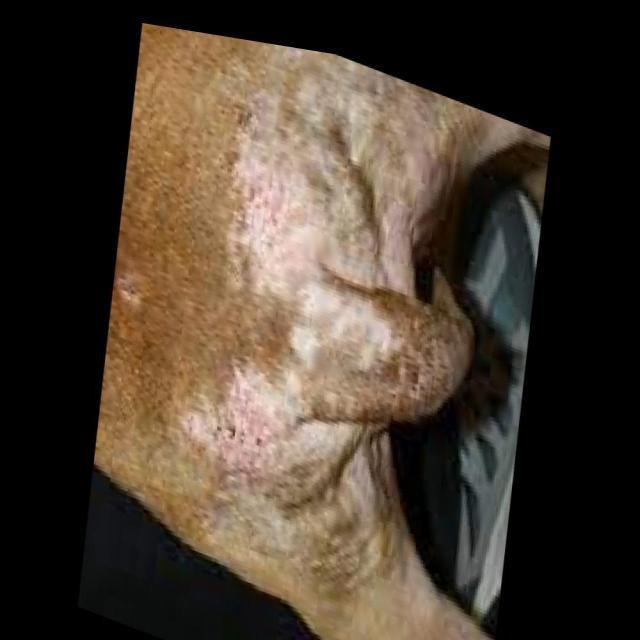allergic dermatitis: (199, 124, 343, 294), (167, 371, 298, 475)
